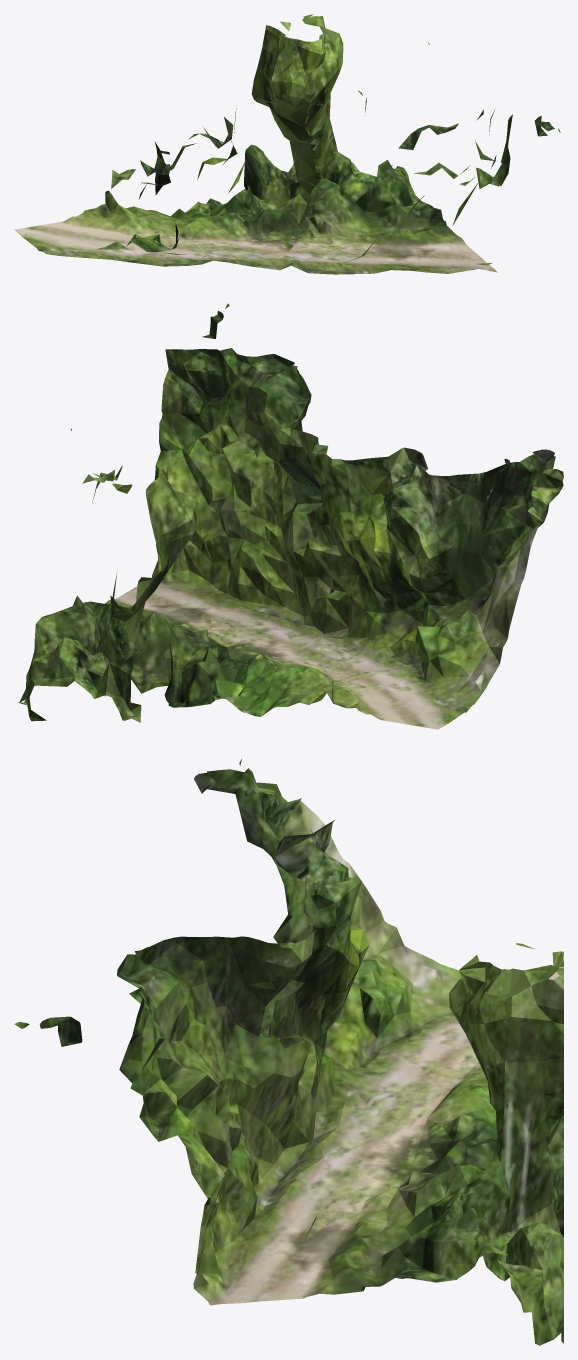
3 views of the same model, one above another, from view 1: azimuth 30°, elevation 25°; view 2: azimuth 150°, elevation 25°; view 3: azimuth 270°, elevation 25° (orthographic). The views are drawn at different scales.
Size of the model in its own units: 26.11 by 15.13 by 22.82.
3 materials, 3 textured.
